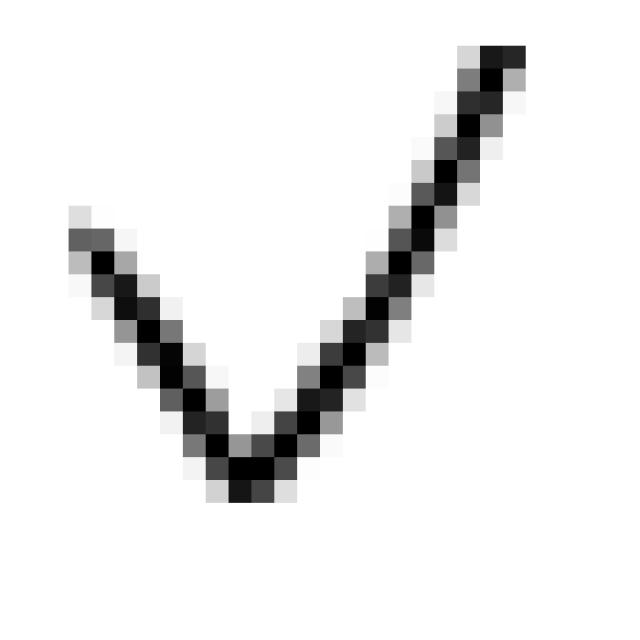7 -seven-: (57, 25, 541, 517)
